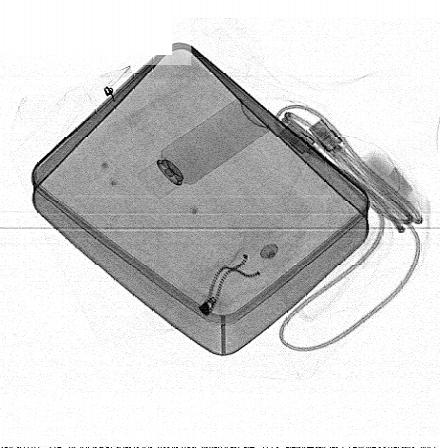Sprayer: (137, 98, 270, 200)
